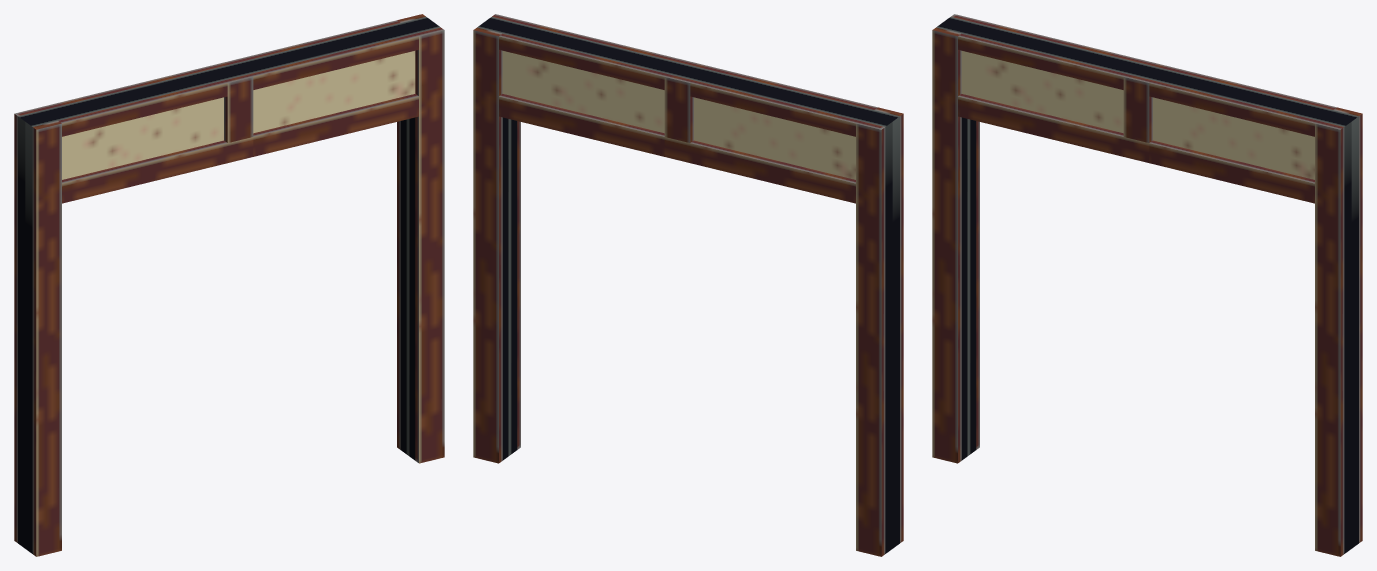
File: GuildEntranceFrame.fbx
3 renders of one model, left to right at view 1: azimuth 30°, elevation 25°; view 2: azimuth 150°, elevation 25°; view 3: azimuth 330°, elevation 25°, orthographic.
Parts seen in each view (by area): view 1: Wall_Base.056; view 2: Wall_Base.056; view 3: Wall_Base.056.
Boxes of the visible parts, <box> form: Wall_Base.056: <box>14,14,444,556</box>; Wall_Base.056: <box>473,14,903,556</box>; Wall_Base.056: <box>932,14,1362,556</box>.
Bounding box in the file's own units: 4 × 0.375 × 4.
